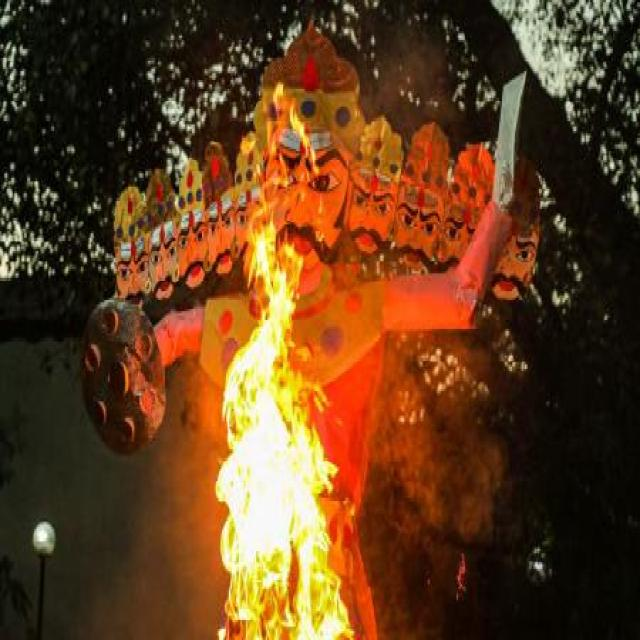fire: (215, 424, 354, 640), (222, 334, 330, 424), (244, 82, 320, 209), (248, 210, 302, 334)
